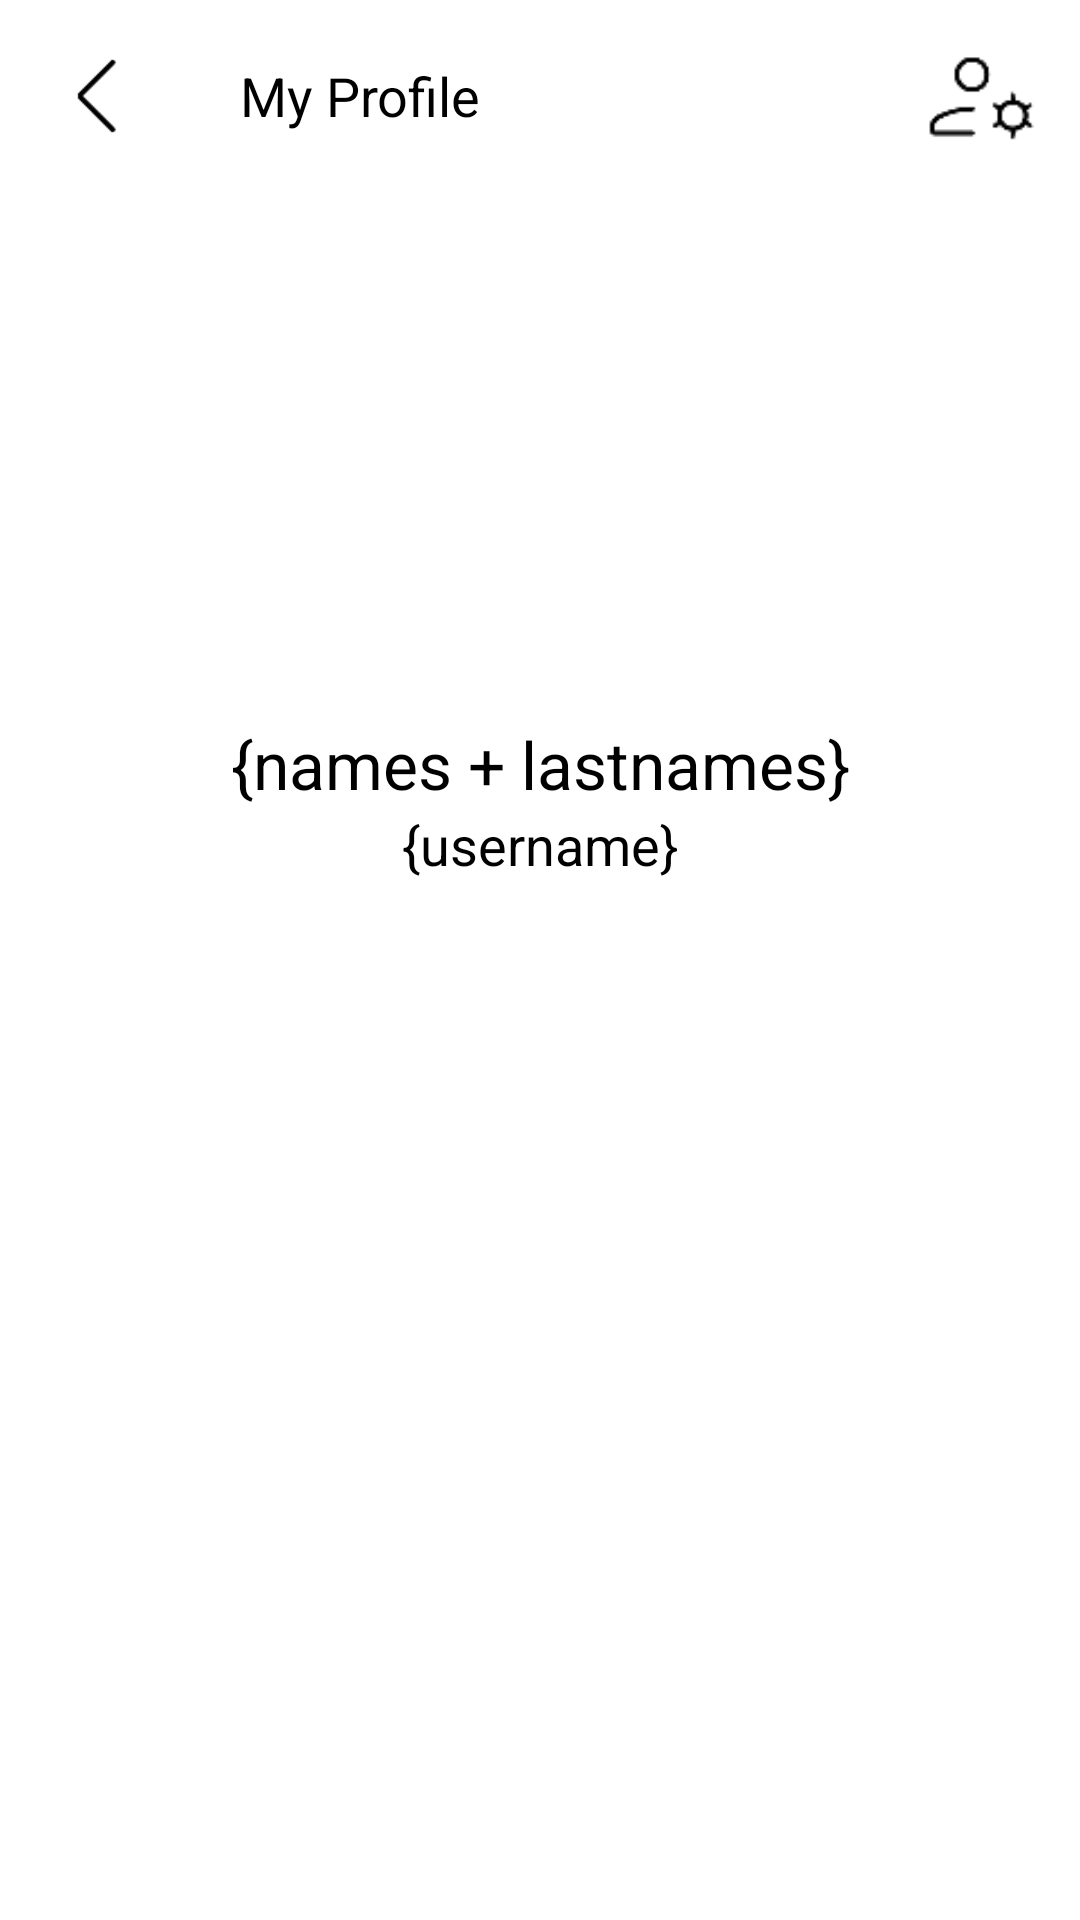

Icon bounding boxes for this 1080x1920 phone screenshot, format {"x1": x1, "y1": y1, "x2": x2, "y2": y2}:
arrow back: {"x1": 77, "y1": 59, "x2": 116, "y2": 133}
manage accounts: {"x1": 929, "y1": 57, "x2": 1034, "y2": 140}
